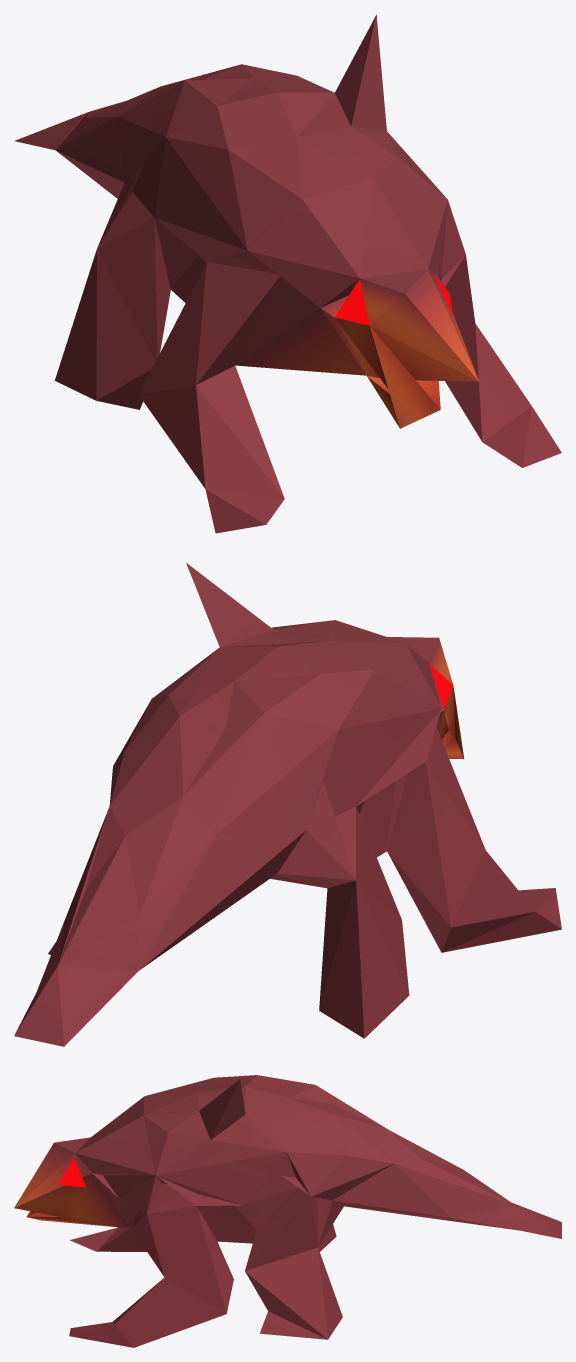
File: Enemy_Dinozavr_NO_Anim_400_TRIS.glb
3 views of the same model, one above another, from view 1: azimuth 30°, elevation 25°; view 2: azimuth 150°, elevation 25°; view 3: azimuth 270°, elevation 25° (orthographic). The views are drawn at different scales.
Visible parts, largest first — view 1: Enemy_Dinozavr_Mesh.002; view 2: Enemy_Dinozavr_Mesh.002; view 3: Enemy_Dinozavr_Mesh.002.
Boxes of the visible parts, box(x1,y1,x2,y2) form: Enemy_Dinozavr_Mesh.002: box(14, 15, 561, 533); Enemy_Dinozavr_Mesh.002: box(14, 563, 561, 1046); Enemy_Dinozavr_Mesh.002: box(14, 1075, 561, 1347).
Bounding box in the file's own units: 2.08 × 2.22 × 4.39.
Materials: 2 (1 with a texture image).
